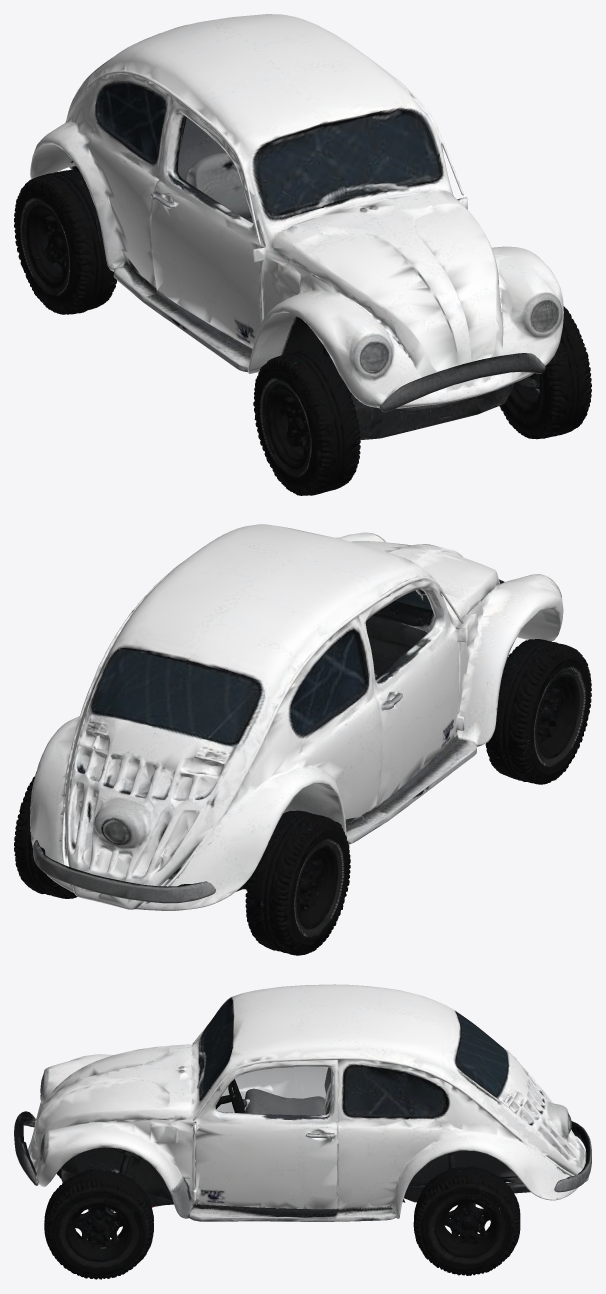
Rendered from BODY_WhiteBaja.glb.
3 renders of one model, top to bottom at view 1: azimuth 30°, elevation 25°; view 2: azimuth 150°, elevation 25°; view 3: azimuth 270°, elevation 25°, orthographic. The views are drawn at different scales.
Parts seen in each view (by area): view 1: Body, Wheel_FR, Wheel_RR, Wheel_FL; view 2: Body, Wheel_FR, Wheel_RR, Wheel_RL; view 3: Body, Wheel_FL, Wheel_RL.
Boxes of the visible parts, x1,y1,x2,y2 form: Body: (30,14,573,495); Wheel_FR: (253,349,360,495); Wheel_RR: (14,169,116,314); Wheel_FL: (499,306,591,438); Body: (30,524,563,910); Wheel_FR: (485,639,591,784); Wheel_RR: (245,810,350,955); Wheel_RL: (14,772,77,898); Body: (14,984,591,1278); Wheel_FL: (44,1169,153,1279); Wheel_RL: (413,1166,520,1275).
Size of the model in its own units: 1.6 by 1.62 by 3.8.
1 material, 1 textured.
